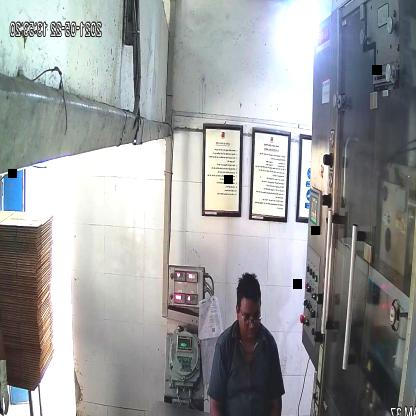goggles: (238, 306, 264, 331)
